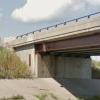Bridge: (7, 15, 100, 58)
